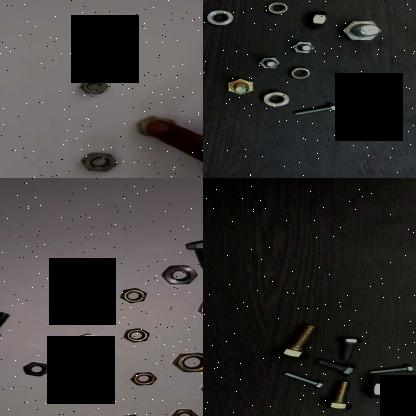Bolts: (272, 323, 316, 360), (362, 376, 416, 402), (335, 18, 379, 48), (325, 380, 355, 416), (288, 102, 338, 122), (283, 370, 323, 392), (332, 334, 364, 360), (183, 236, 203, 272), (366, 362, 416, 375), (221, 78, 256, 96), (254, 55, 284, 71), (290, 40, 318, 55), (336, 75, 364, 87), (0, 310, 10, 342), (81, 412, 141, 416)
NUTS: (169, 350, 203, 376), (80, 152, 120, 174), (159, 264, 199, 286), (67, 347, 105, 369), (59, 384, 96, 406), (260, 90, 294, 110), (203, 9, 237, 28), (72, 80, 110, 96), (73, 332, 104, 349), (302, 10, 328, 30), (127, 371, 159, 387), (124, 327, 152, 345), (116, 288, 146, 304), (262, 0, 291, 16), (22, 362, 51, 378), (284, 66, 312, 80), (168, 409, 199, 416)
